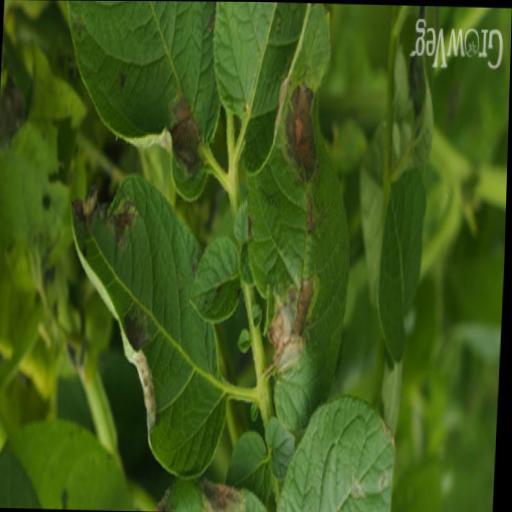Early Blight: (53, 160, 245, 478), (238, 6, 362, 423), (53, 0, 227, 203)
